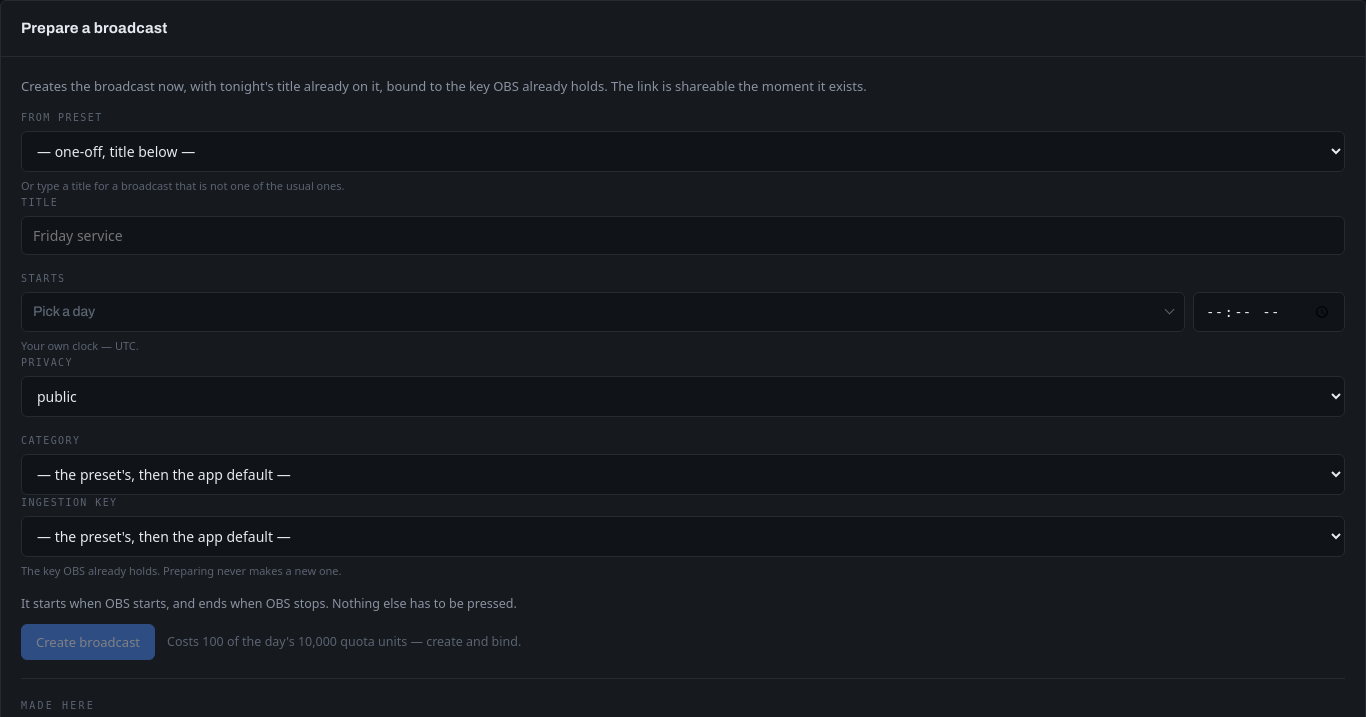
Test: PrepareBroadcast › shows the share link the moment the broadcast exists
Select "Friday service" in the dropdown labelled "From preset". click: (683, 152)
box: [21,131,1345,172]
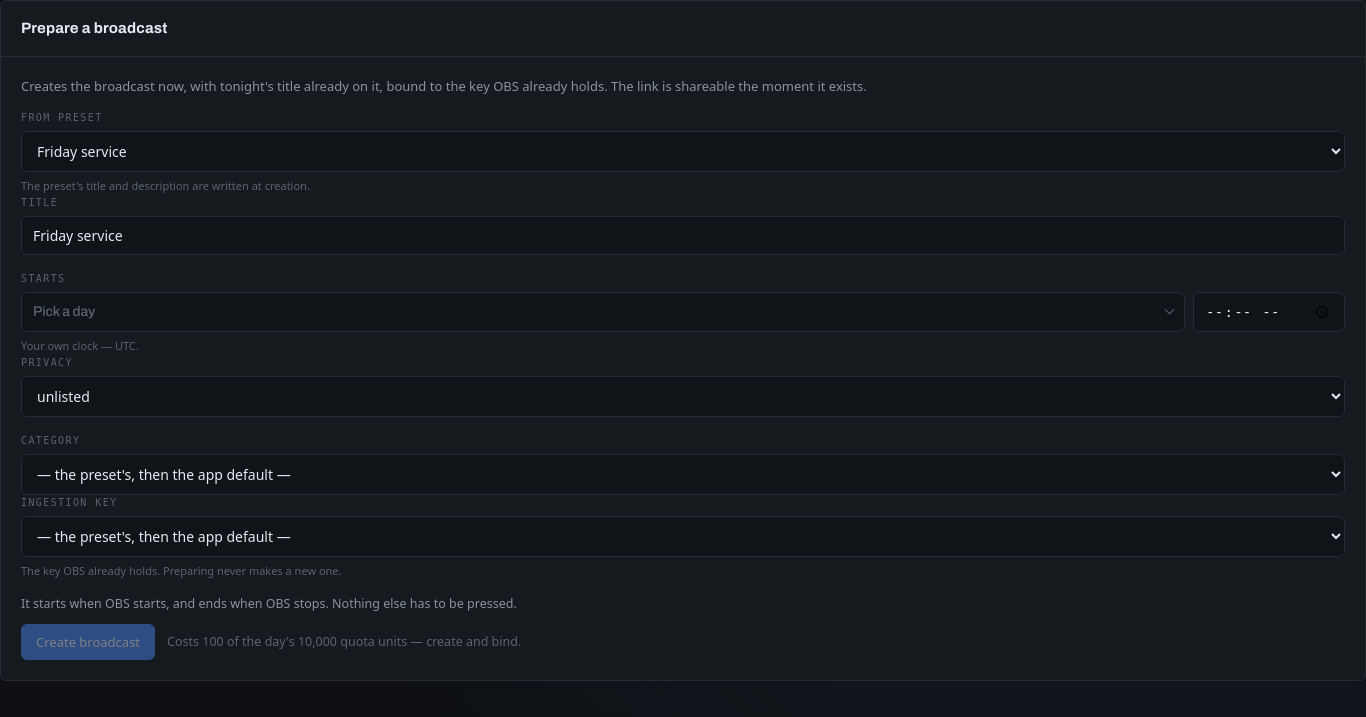
Click the button named "Starts ". click: (64, 312)
box: [21,292,1185,332]
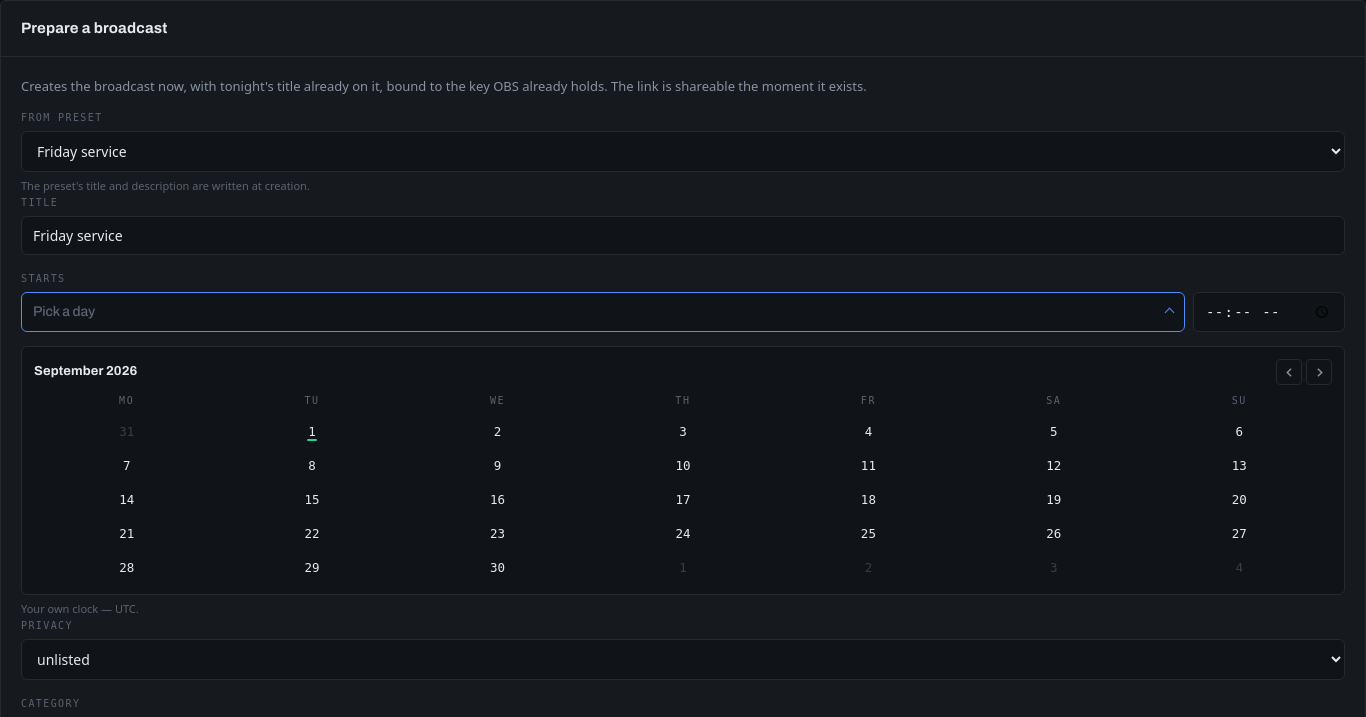
Click the button named "Friday, September 4th, 2026". click: (868, 431)
box: [777,415,960,447]
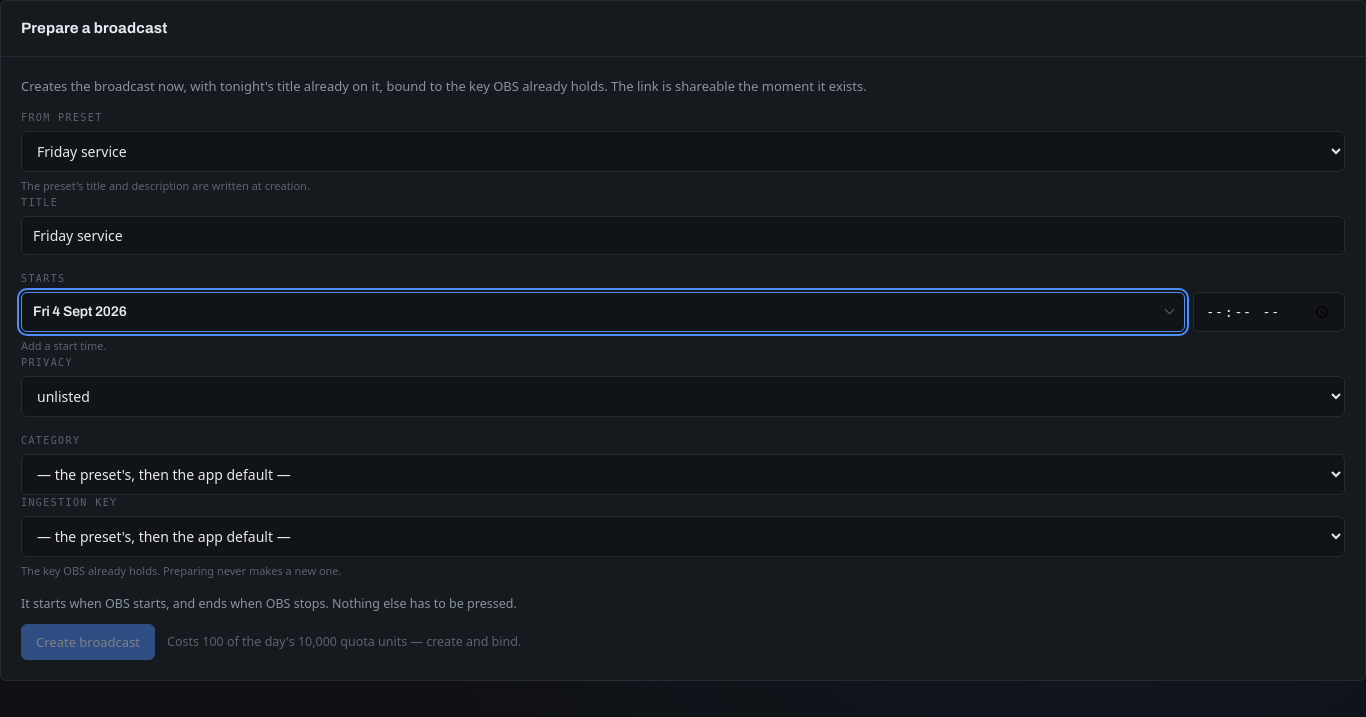
Type "19:00" into the time field named "Starts — time of day". click: (1269, 312)
box: [1193,292,1345,332]
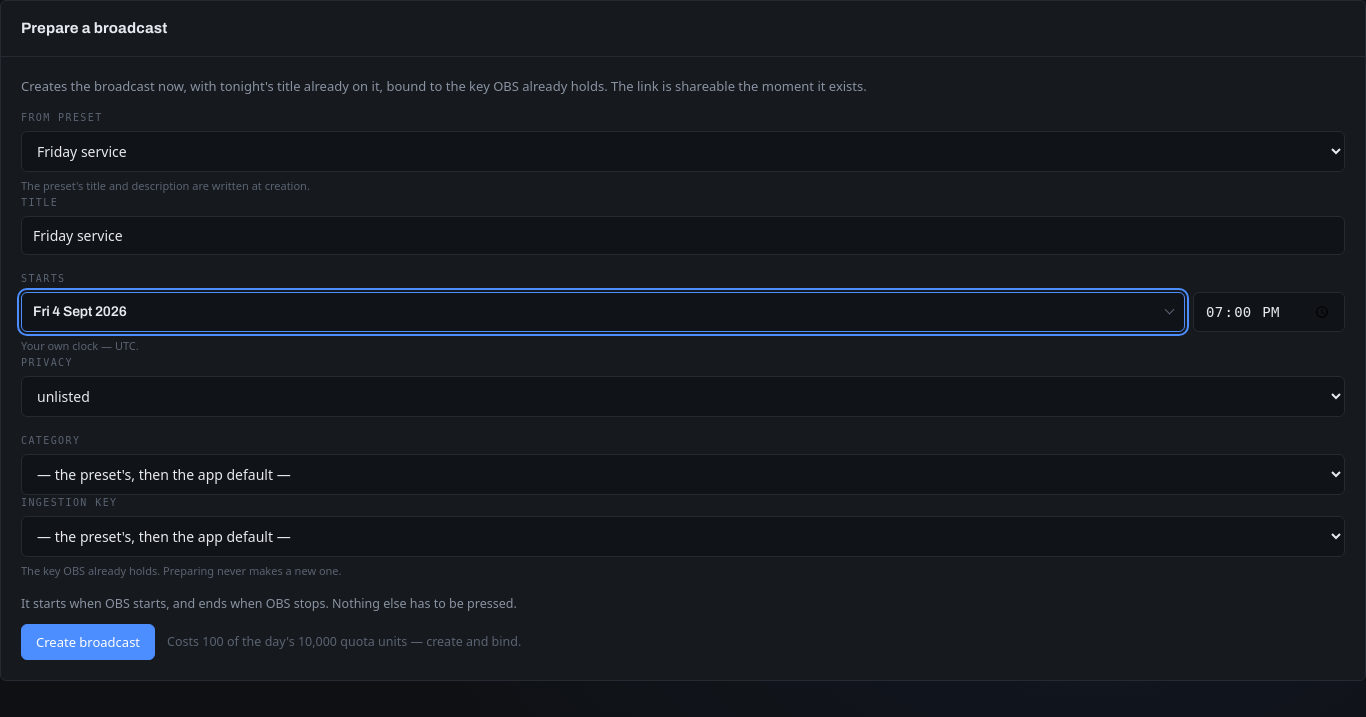
Click the button "Create broadcast". click: (88, 642)
box: [21,624,155,660]
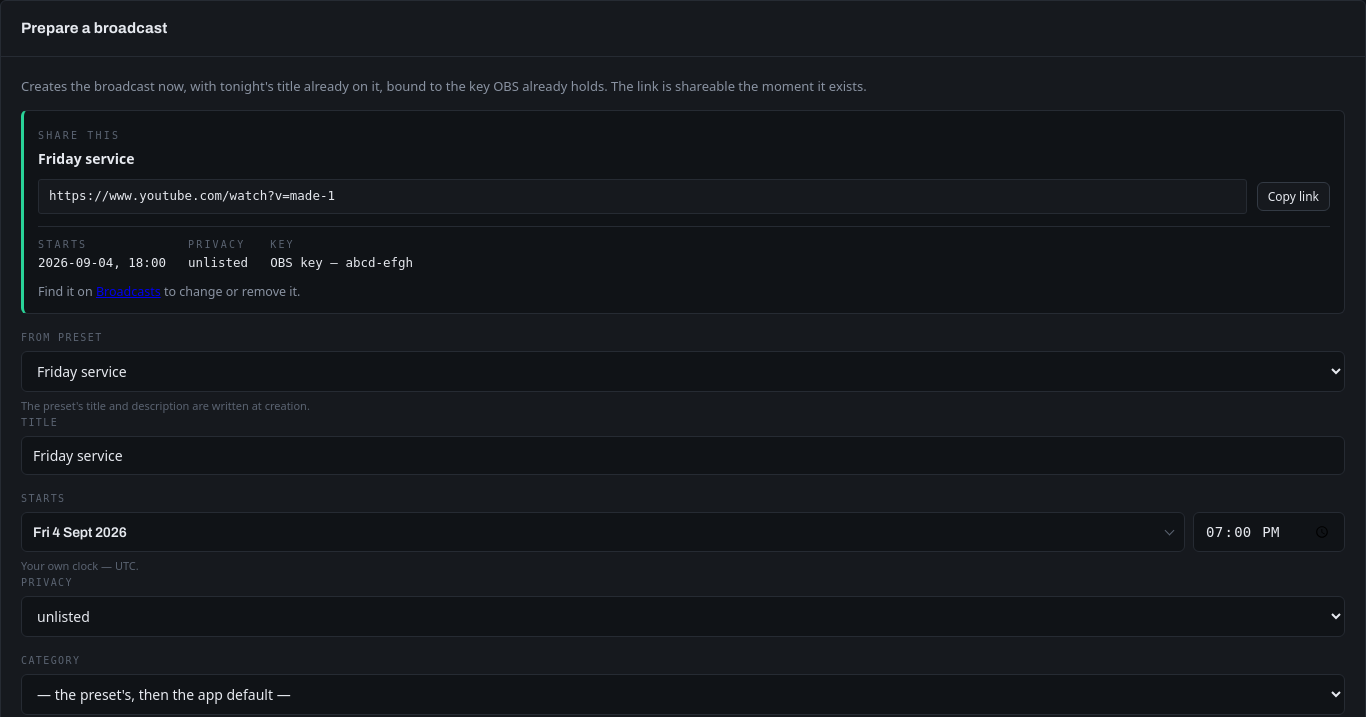
Check: the text "https://www.youtube.com/watch?v=made-1" is shown, box [38,179,1247,214]
Check: the button "Copy link" is shown, box [1257,182,1330,211]
